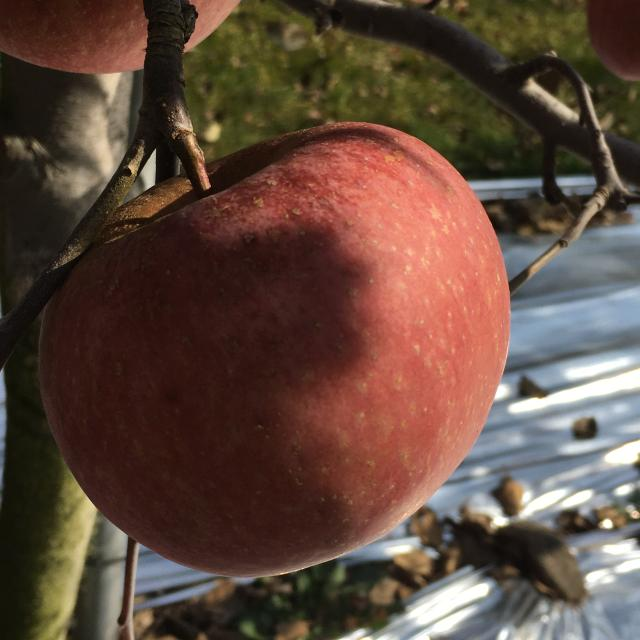fresh: (28, 114, 519, 584)
